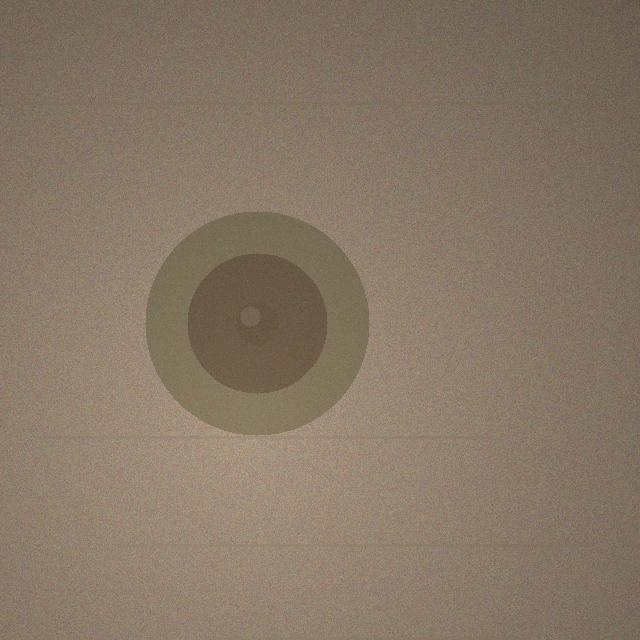good: (145, 211, 369, 435)
